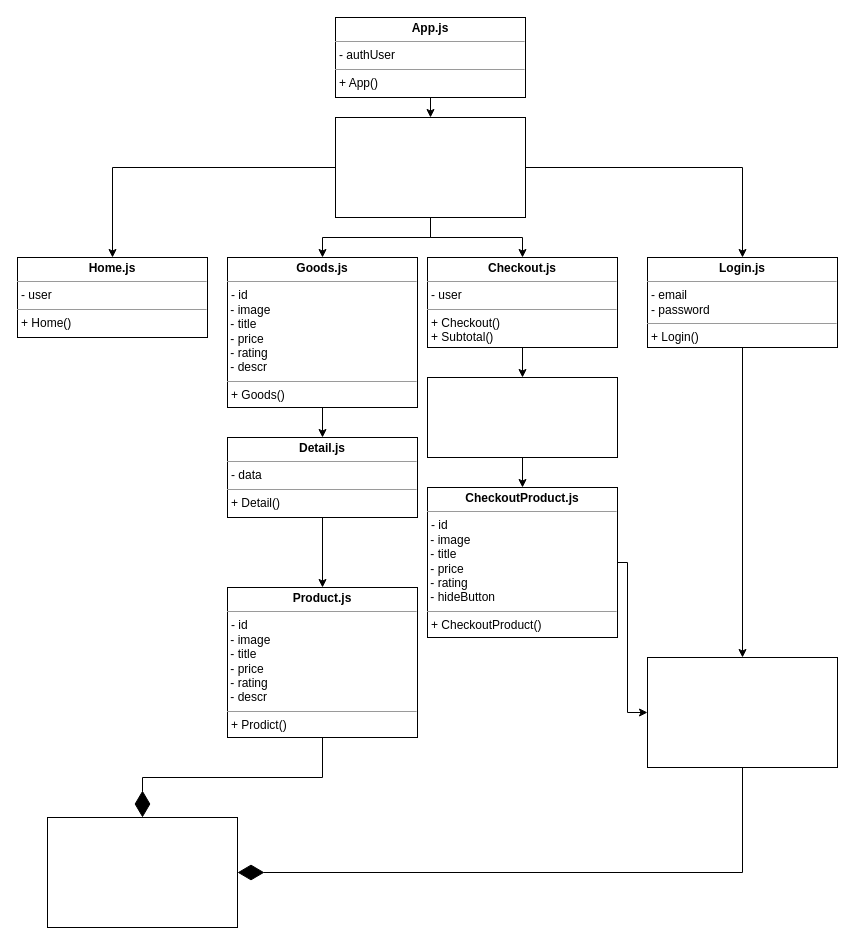
The diagram is 855 pixels wide and 945 high, and some of its shapes have lost their labels. Here are the shapes that lost their labels. From the top down, the box of each, then its label:
(334, 116, 526, 218): NavBar (Header.js) - user - search + Header()
(426, 376, 618, 458): Subtotal.js - basket + Subtotal()
(646, 656, 838, 768): Order.js - user - order + Order() + OrderHistory()
(46, 816, 238, 928): firebase.js - db - auth + firebaseConfig + firebaseApp
